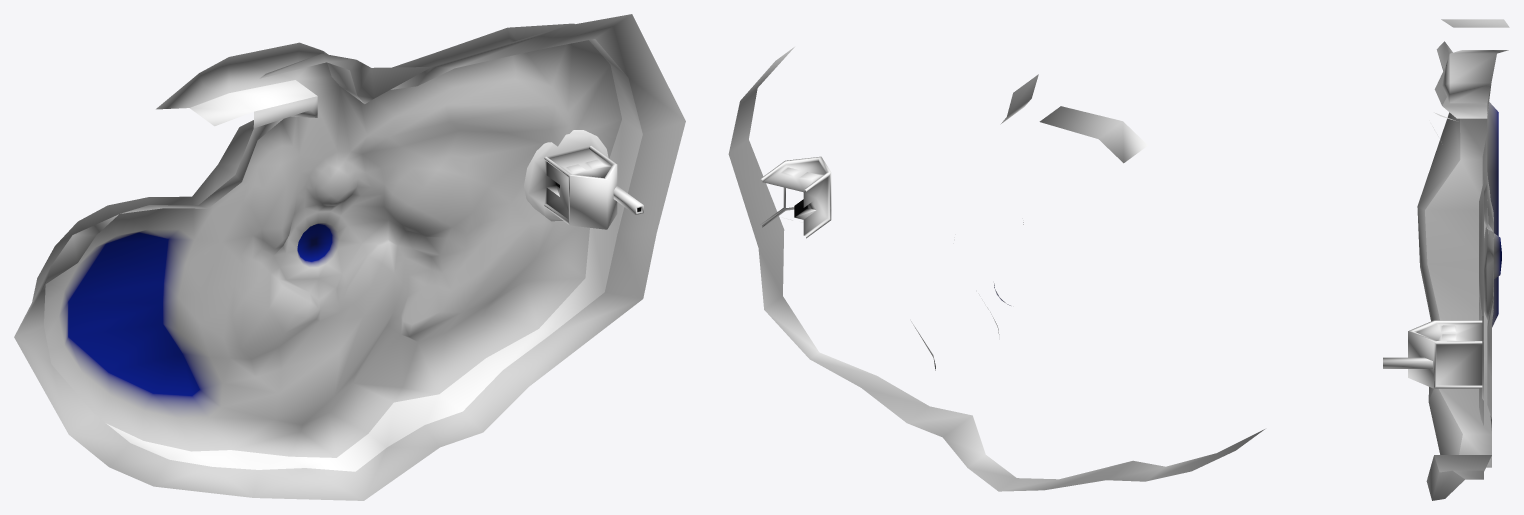
The model's file is village.glb.
The picture shows the model from 3 angles, left to right: view 1: azimuth 30°, elevation 25°; view 2: azimuth 150°, elevation 25°; view 3: azimuth 270°, elevation 25°; orthographic projection. The views are drawn at different scales.
Visible parts, largest first — view 1: level_terrain.002, cabin_1_Normal_Detail; view 2: level_terrain.002, cabin_1_Normal_Detail; view 3: level_terrain.002, cabin_1_Normal_Detail.
Part boxes in pixels (<box>): level_terrain.002: <box>14,14,685,500</box>; cabin_1_Normal_Detail: <box>524,130,643,229</box>; level_terrain.002: <box>728,47,1264,491</box>; cabin_1_Normal_Detail: <box>760,156,831,238</box>; level_terrain.002: <box>1417,19,1509,500</box>; cabin_1_Normal_Detail: <box>1383,316,1483,400</box>.
Size of the model in its own units: 2002 by 1352 by 352.
